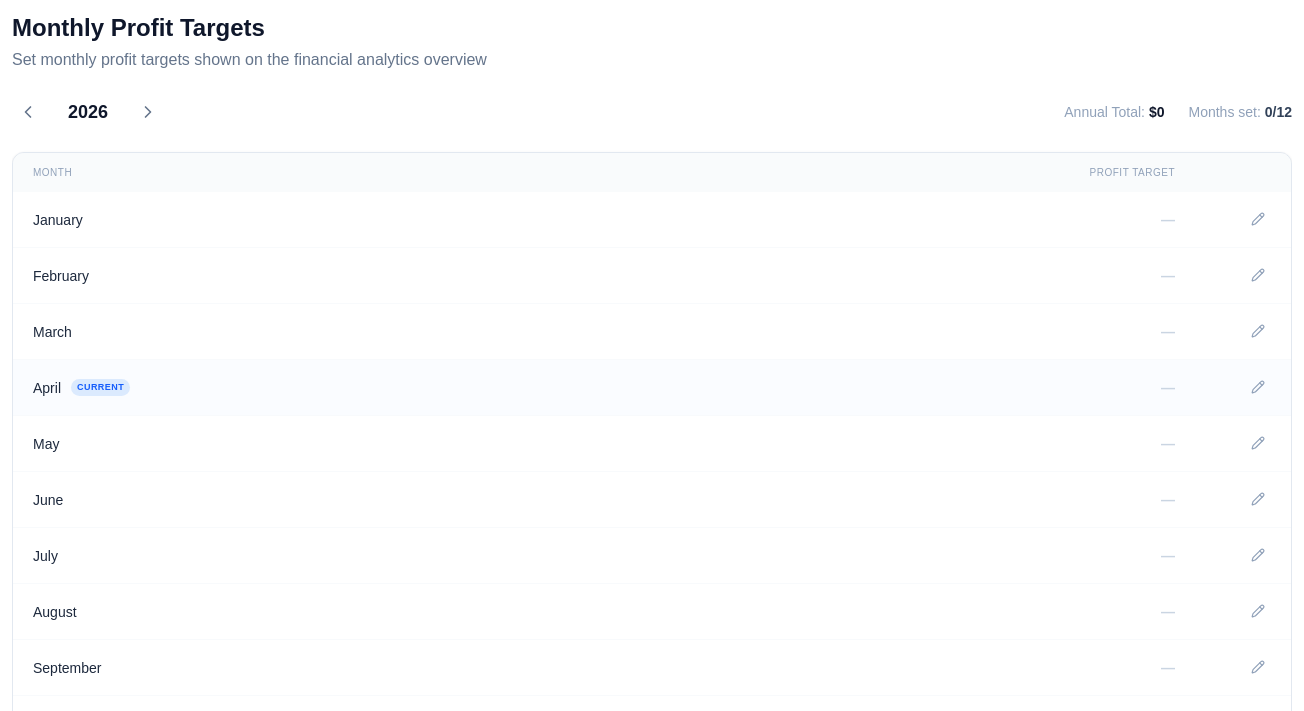
Test case: FinancialTargetsPage › Inline Editing › shows input field when edit button is clicked
Expected: the text "January" is shown, [33,210,83,230]
Click the button titled "Edit target" in the row of "January" at (1258, 219), box [1245,206,1271,232]
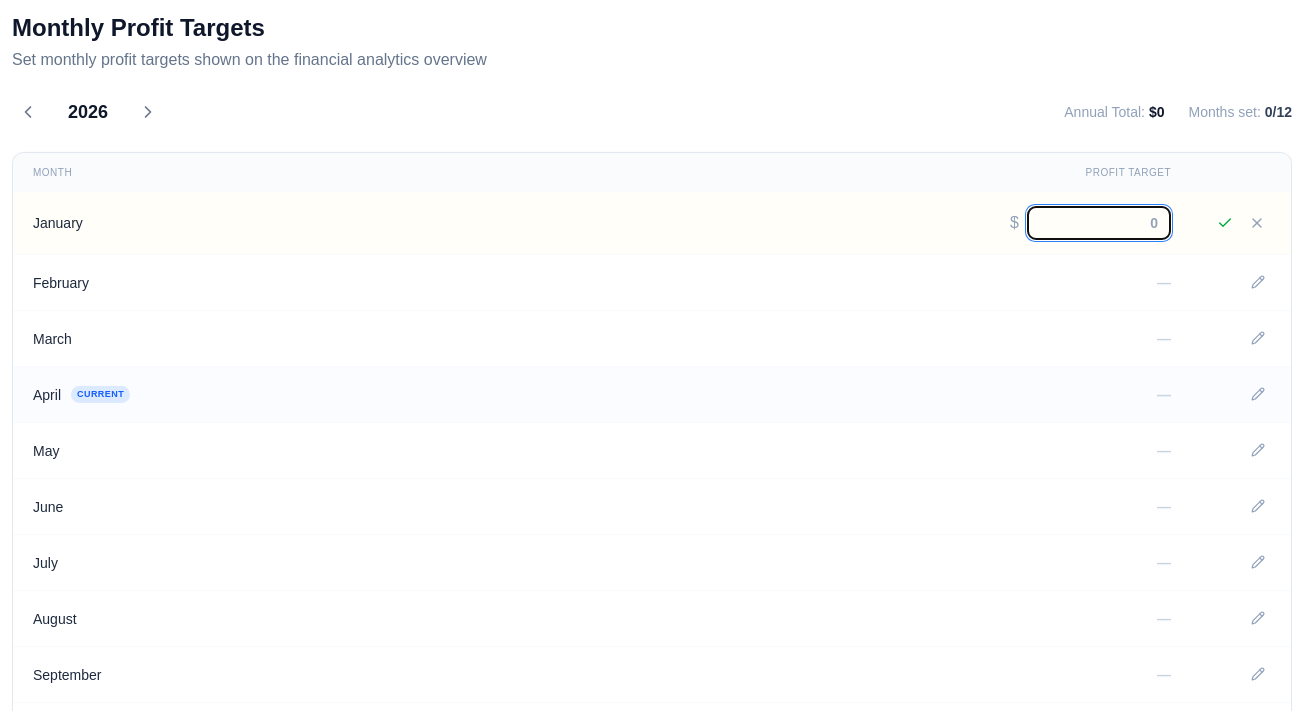
Result: the number field with placeholder "0" is shown at [1027,206,1171,240]
